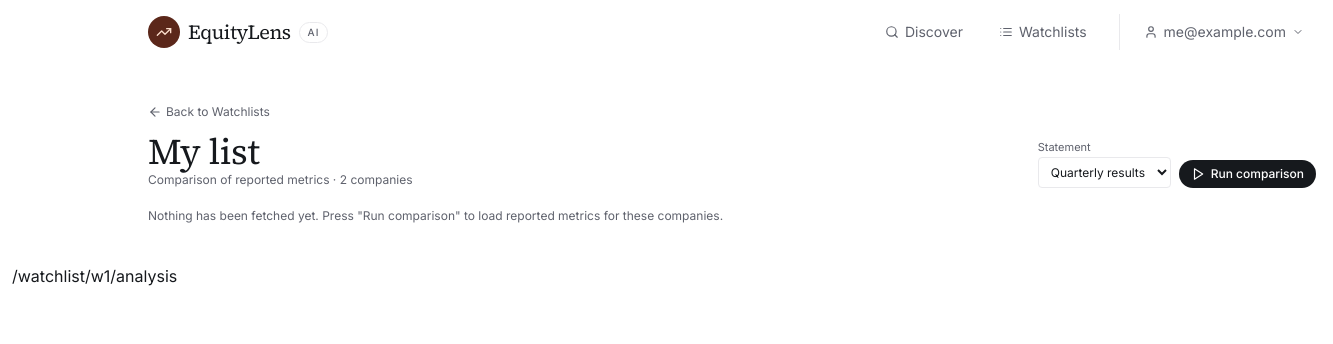
Test: watchlist comparison › compare 503 source_disabled is a banner, not an error box
The width and height of the screenshot is (1333, 344).
Click the button "Run comparison" at (1247,174), box [1179,160,1316,188]
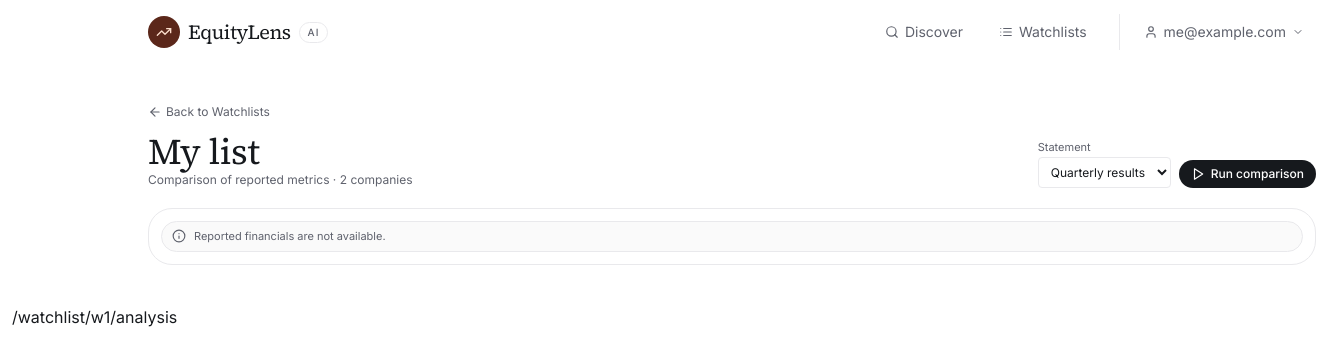
Result: the message with test id "source-disabled" reads "Reported financials are not available." at [194,229,386,243]
